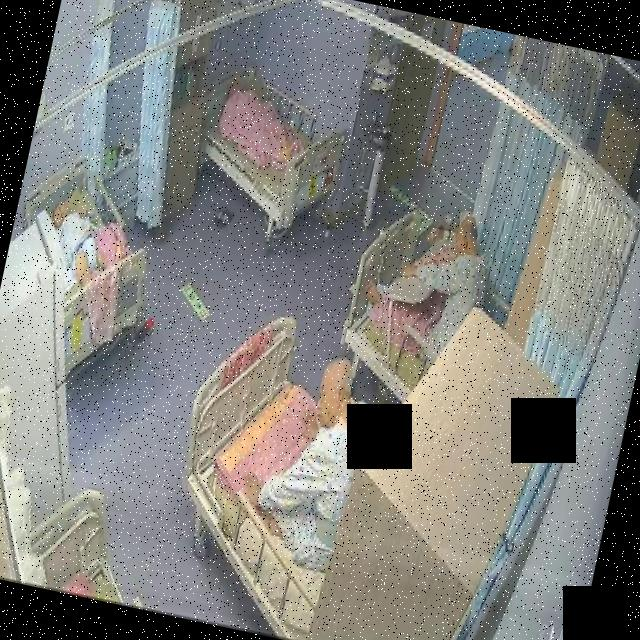bed: (148, 304, 404, 640), (0, 147, 174, 386), (333, 209, 500, 415), (182, 55, 354, 239)
lie: (34, 196, 106, 284)
patient: (229, 341, 383, 578), (352, 193, 502, 373), (36, 194, 107, 284)
sit: (228, 340, 384, 579), (352, 194, 502, 374)
